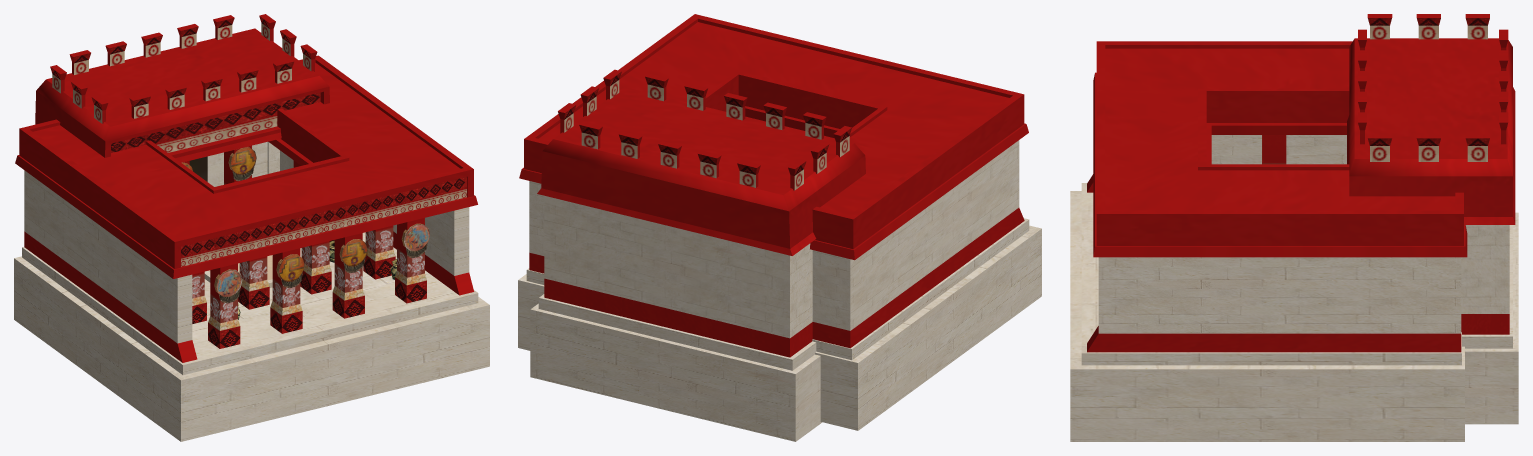
The model's file is barracks.dae.
3 renders of one model, left to right at view 1: azimuth 30°, elevation 25°; view 2: azimuth 150°, elevation 25°; view 3: azimuth 270°, elevation 25°, orthographic. The views are drawn at different scales.
Parts seen in each view (by area): view 1: barracks; view 2: barracks; view 3: barracks.
Part boxes in pixels (x1,y1,x2,y2): barracks: (14, 14, 489, 441); barracks: (518, 14, 1041, 441); barracks: (1070, 14, 1518, 441).
Bounding box in the file's own units: 23.61 × 25.11 × 17.22.
